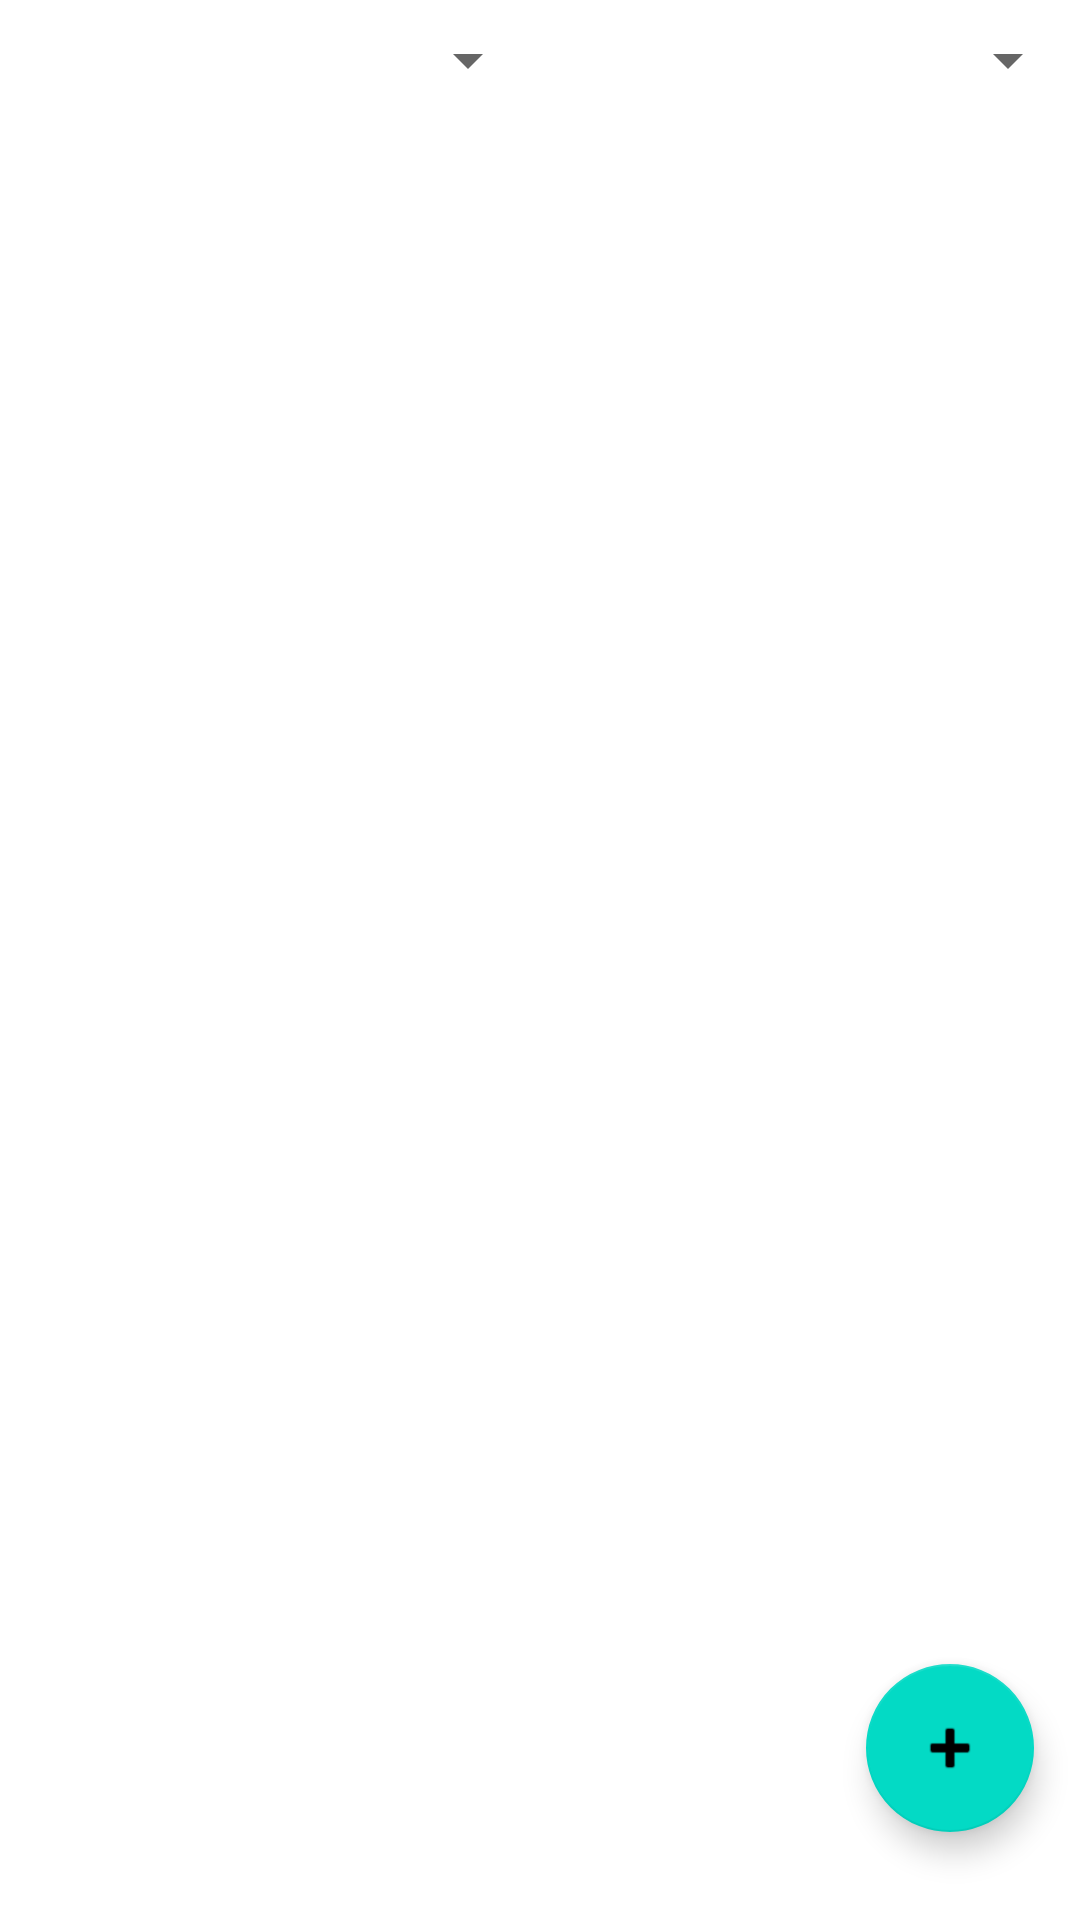

Where to tap for icons on this 1080 × 1920 app screen, as [x,y]:
add: [950,1748]
